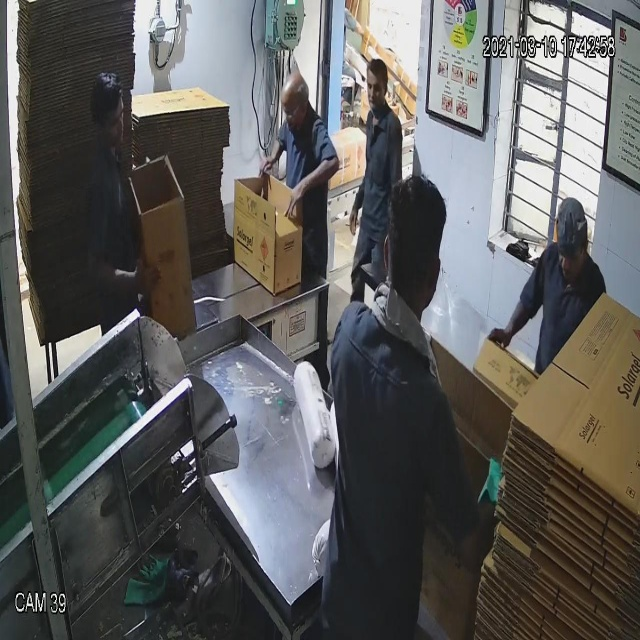Sin_guantes: (82, 239, 164, 308), (275, 155, 350, 220), (483, 282, 538, 356)
